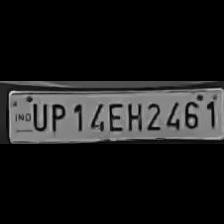1: (202, 95, 218, 129), (68, 100, 84, 132)
2: (144, 98, 160, 130)
4: (86, 98, 104, 132), (162, 97, 180, 129)
6: (181, 96, 199, 130)
E: (104, 98, 122, 132)
H: (124, 98, 142, 130)
P: (46, 100, 66, 132)
U: (28, 99, 48, 131)
